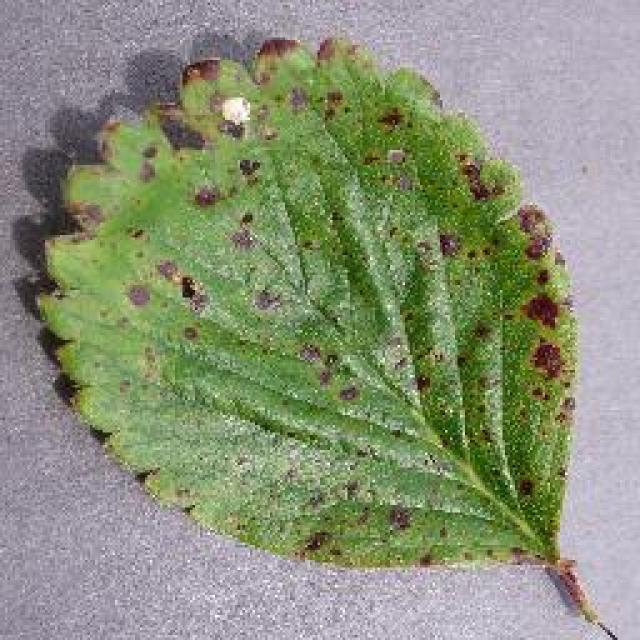Strawberry___Leaf_scorch: (46, 85, 542, 560)
